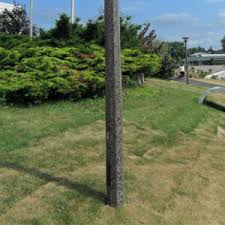light_pole: (100, 3, 130, 213)
